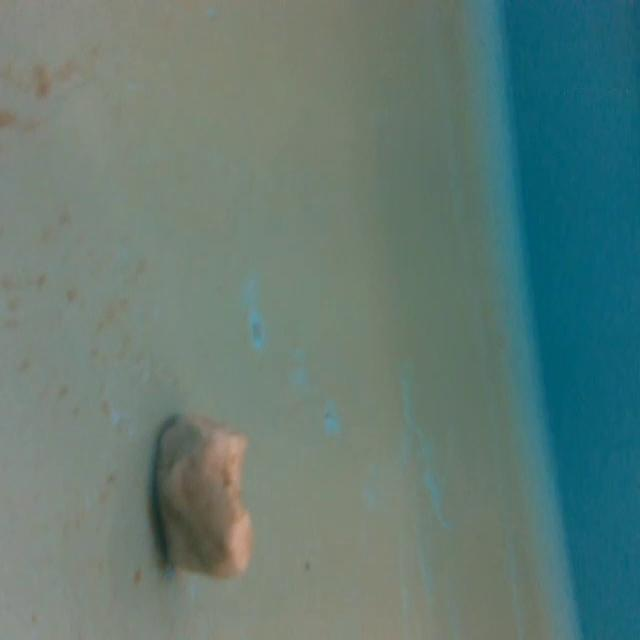rock: (152, 412, 258, 590)
